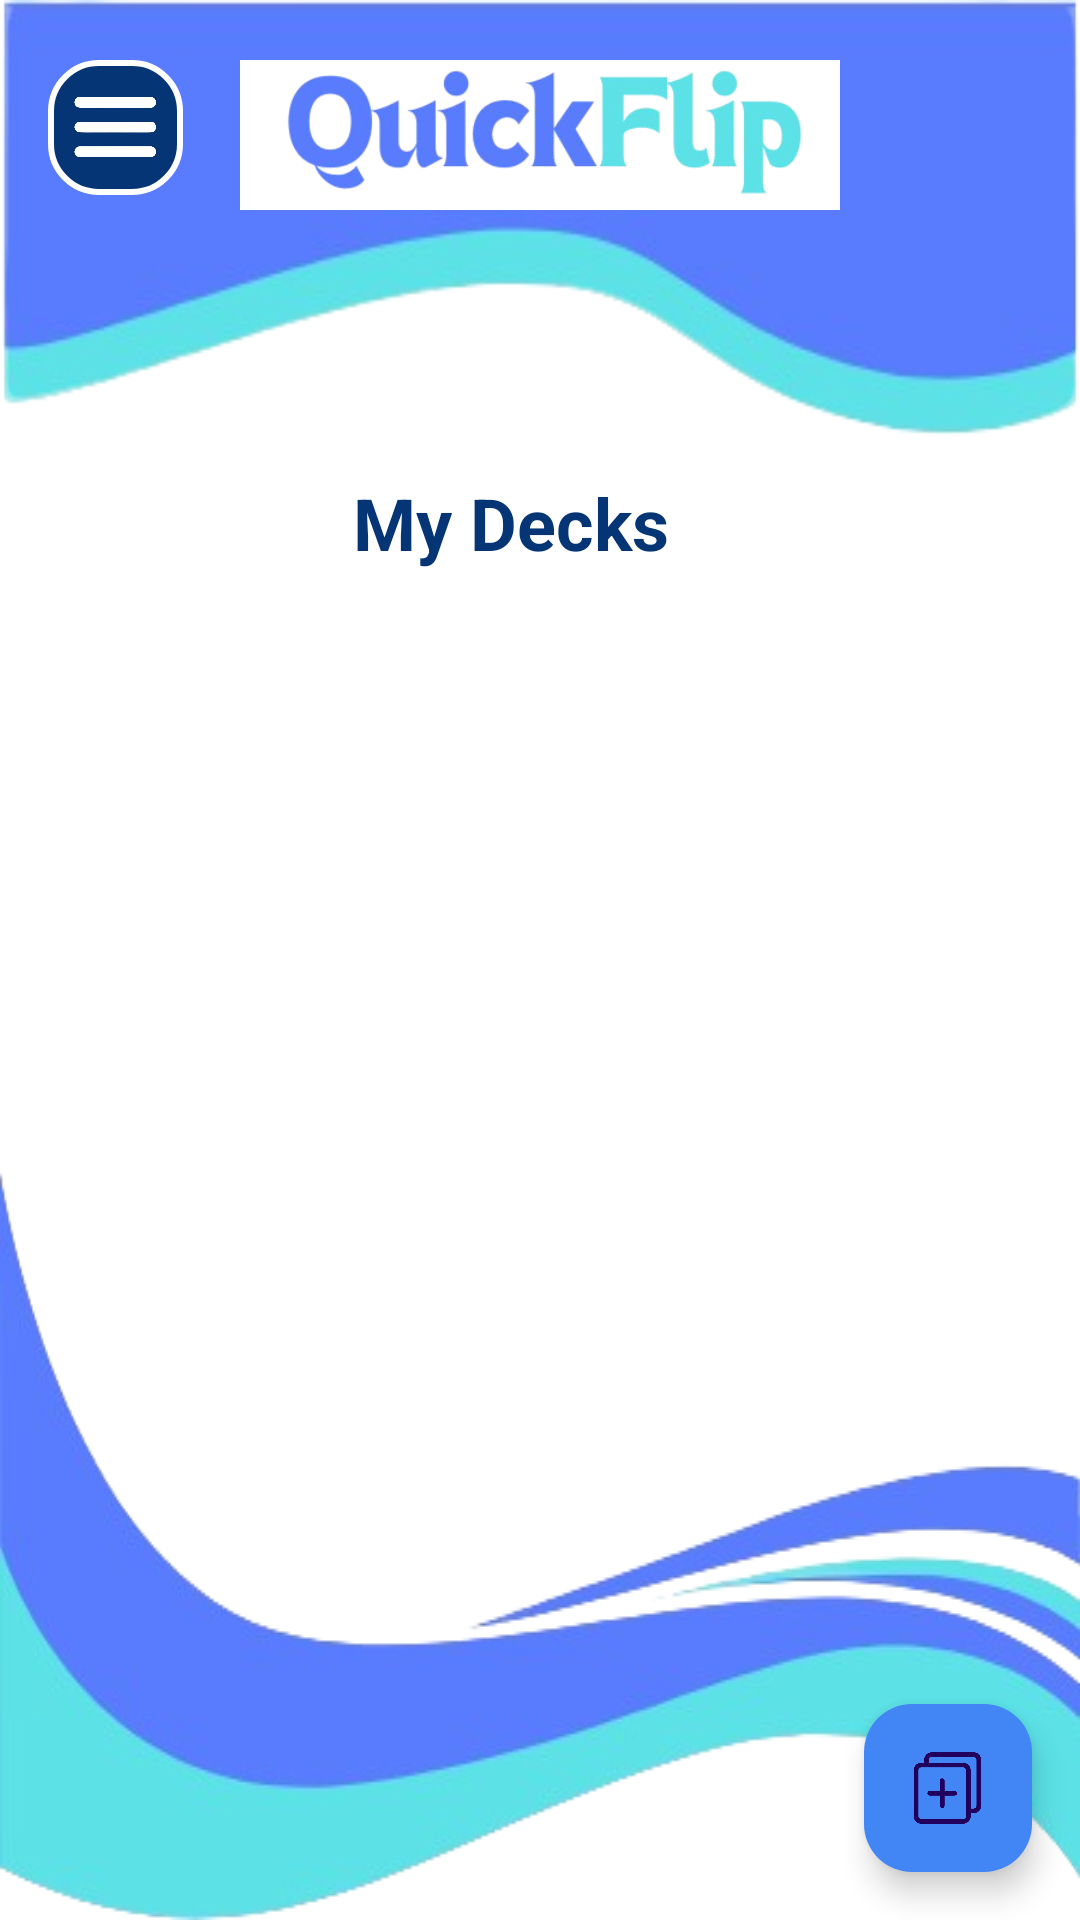

Screen size 1080*1920. Icon name, then its center in pixels as point (x, y):
add deck: point (948, 1788)
Drawer: point (115, 127)
